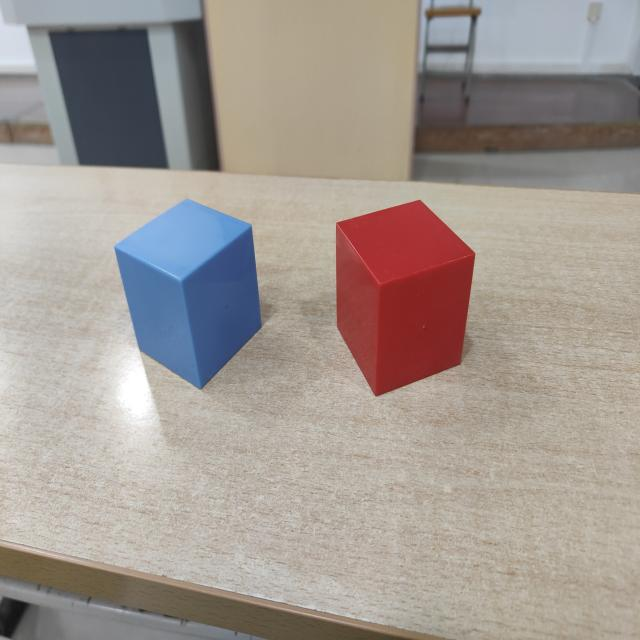blue: (114, 200, 264, 390)
red: (335, 201, 477, 398)
